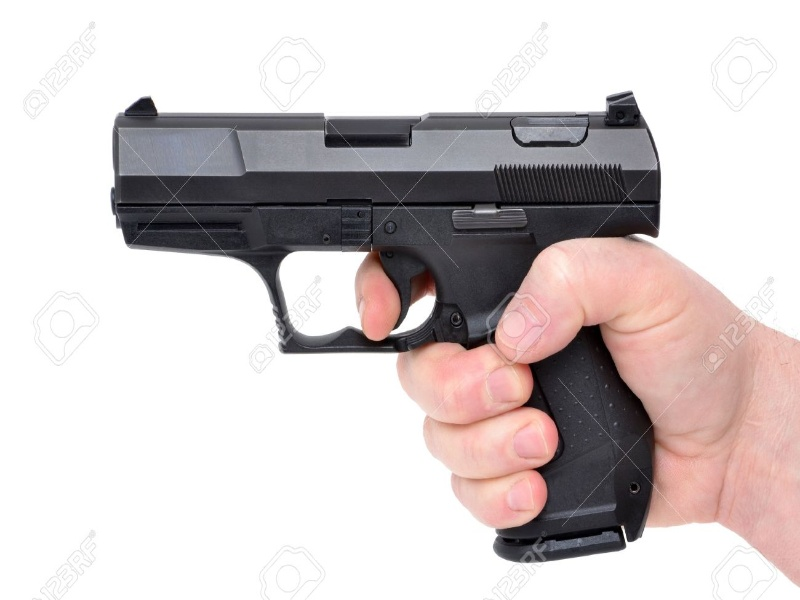gun: (111, 88, 685, 551)
